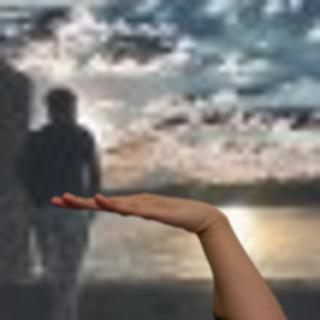WAIT: (45, 181, 221, 233)
